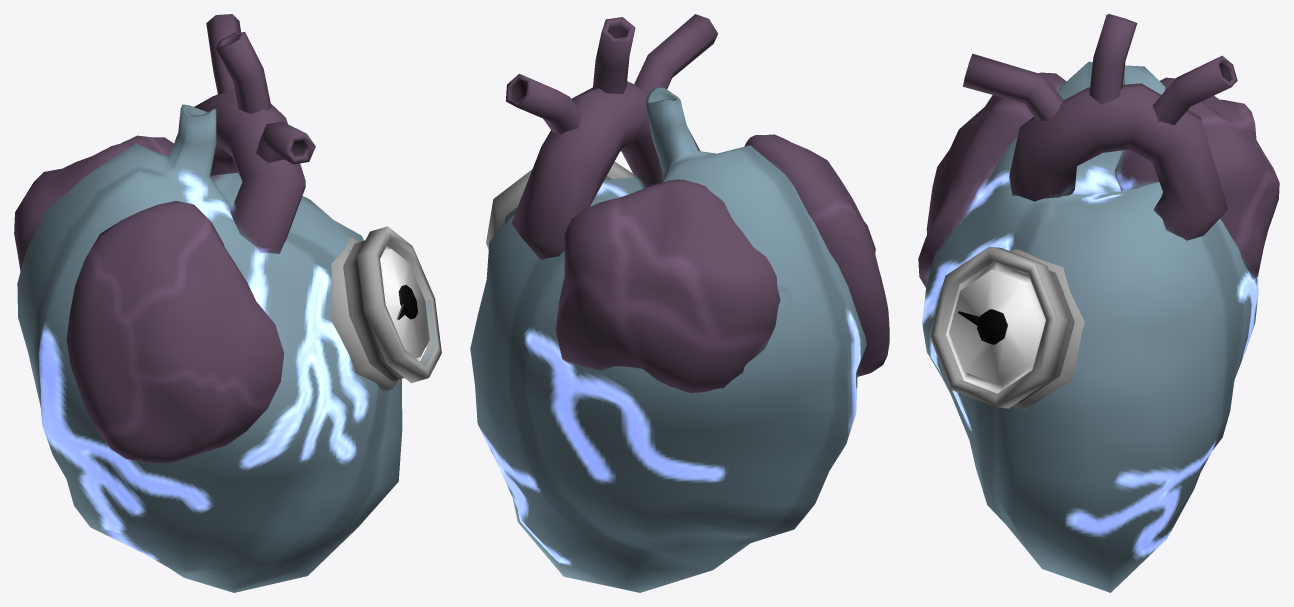
The model's file is GuardiansHeart.fbx.
3 views of the same model, side by side, from view 1: azimuth 30°, elevation 25°; view 2: azimuth 150°, elevation 25°; view 3: azimuth 270°, elevation 25° (orthographic). The views are drawn at different scales.
Parts seen in each view (by area): view 1: Heart; view 2: Heart; view 3: Heart.
Boxes of the visible parts, x1,y1,x2,y2 form: Heart: [14, 14, 441, 592]; Heart: [470, 14, 889, 592]; Heart: [918, 14, 1279, 592].
Bounding box in the file's own units: 2.55 × 3.52 × 2.09.
